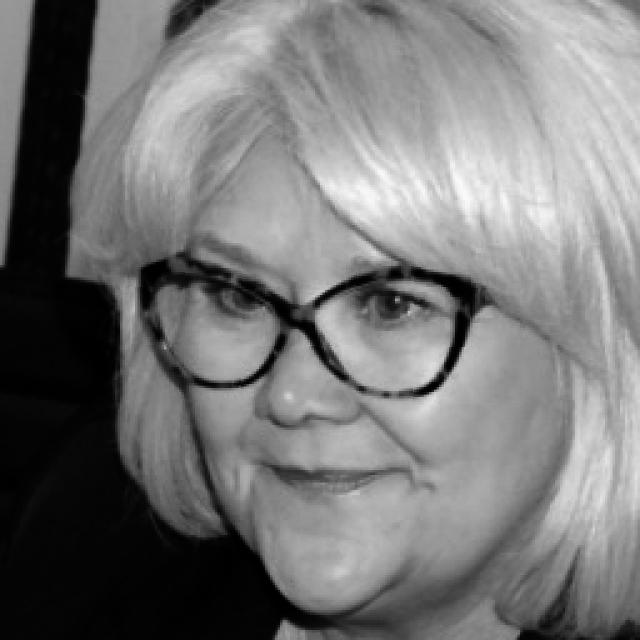glasses: (128, 230, 526, 404)
